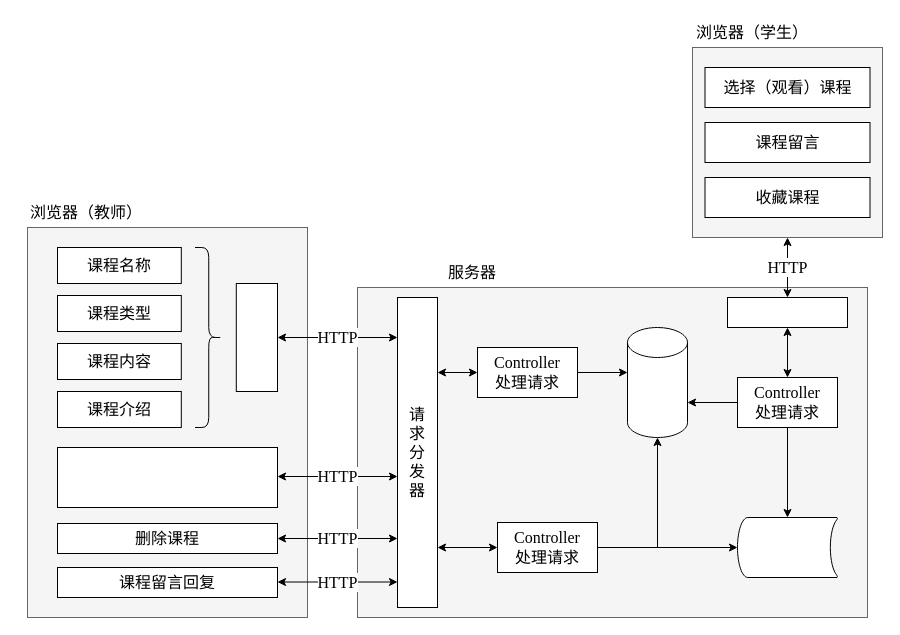
The diagram is 900 pixels wide and 635 high, and some of its shapes have lost their labels. The shapes that lost their labels are listed below. From the top down, each one's centre as x and y in pixels, then its label:
At (787,312): "请求分发器".
At (256,337): "新 增 课 程".
At (657,382): "数 据 库".
At (167,477): "修改课程 （课程名称、课程类型、课程内容...）".
At (787,547): "磁盘".
